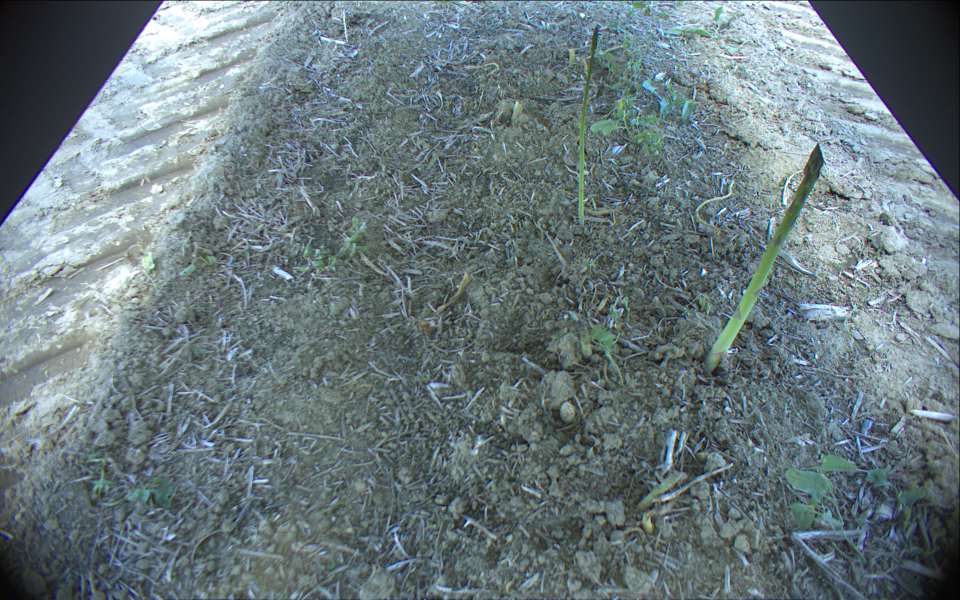aspa: (705, 143, 826, 370), (577, 26, 600, 227), (577, 318, 594, 354)
